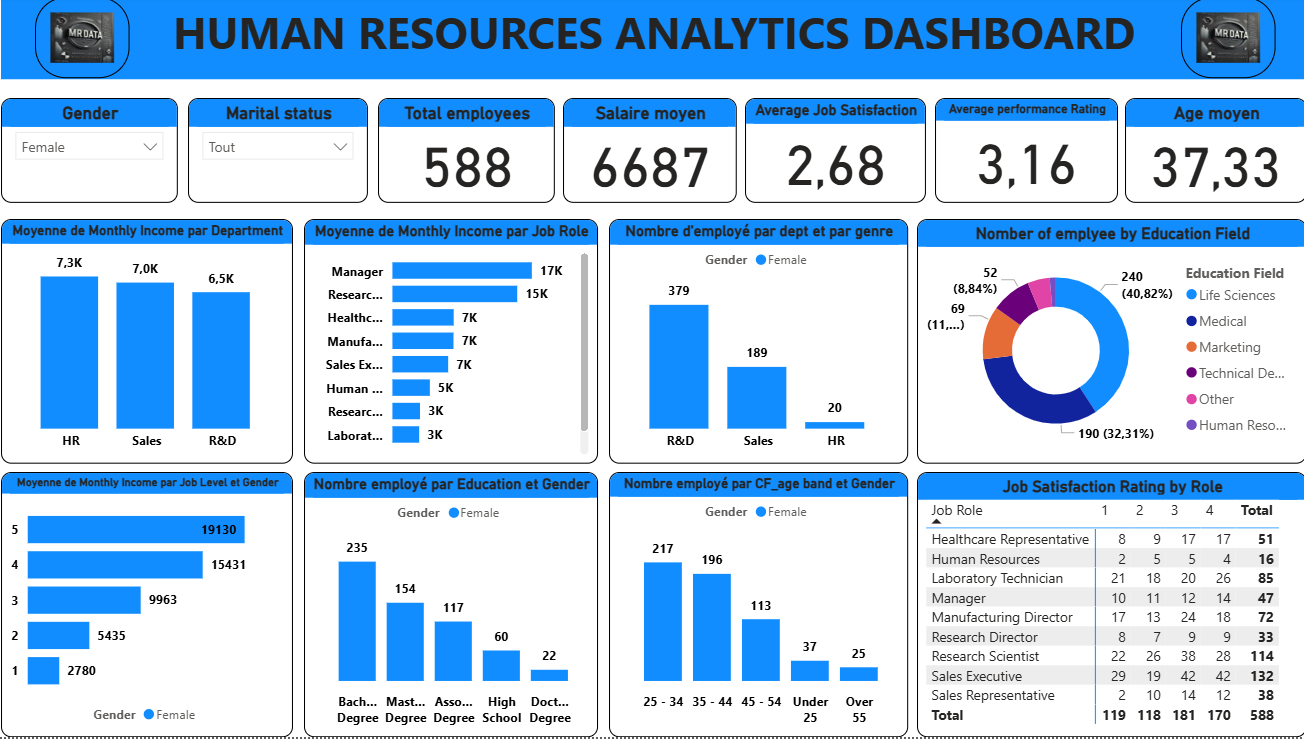

The dashboard page shown, as its layout file describes it:
{"tool":"powerbi","page":{"name":"Gestion des resources humaines","canvas":[1280,720],"ordinal":0},"visuals":[{"type":"textbox","box":[9.7,0,1270.3,79.8],"z":0},{"type":"slicer","title":"Gender","fields":{"Values":["HR data.Gender"]},"box":[10.2,98.6,171.8,101.7],"z":1000},{"type":"slicer","title":"Marital status","fields":{"Values":["HR data.Marital Status"]},"box":[191.1,98.6,174.9,101.7],"z":3000},{"type":"card","title":"Total employees","fields":{"Values":["HR data.Nombre employé"]},"box":[376.2,98.6,171.8,101.7],"z":4000},{"type":"card","title":"Salaire moyen","fields":{"Values":["Avg(HR data.Monthly Income)"]},"box":[556.1,98.6,168.8,101.7],"z":5000},{"type":"card","title":"Average Job Satisfaction","fields":{"Values":["Avg(HR data.Job Satisfaction)"]},"box":[733,98.6,175.9,101.7],"z":6000},{"type":"card","title":"Average performance Rating","fields":{"Values":["Avg(HR data.Performance Rating)"]},"box":[918.1,98.6,177.9,101.7],"z":7000},{"type":"card","title":"Age moyen","fields":{"Values":["Avg(HR data.Age)"]},"box":[1103.1,98.6,176.9,101.7],"z":8000},{"type":"columnChart","fields":{"Category":["HR data.Department"],"Y":["Avg(HR data.Monthly Income)"]},"box":[10.2,215.5,283.7,237.9],"z":9000},{"type":"barChart","fields":{"Y":["Avg(HR data.Monthly Income)"],"Category":["HR data.Job Role"]},"box":[304,215.5,285.7,237.9],"z":9001},{"type":"clusteredColumnChart","title":"Nombre d''employé par dept et par  genre","fields":{"Category":["HR data.Department"],"Y":["CountNonNull(HR data.emp no)"],"Series":["HR data.Gender"]},"box":[600.9,215.5,290.8,237.9],"z":9002},{"type":"donutChart","title":"Nomber of emplyee by Education Field","fields":{"Y":["CountNonNull(HR data.emp no)"],"Category":["HR data.Education Field"]},"box":[900.8,215.5,379.2,237.9],"z":9003},{"type":"clusteredBarChart","fields":{"Y":["Avg(HR data.Monthly Income)"],"Category":["HR data.Job Level"],"Series":["HR data.Gender"]},"box":[10.2,461.6,283.7,258.2],"z":9004},{"type":"columnChart","fields":{"Category":["HR data.Education"],"Y":["HR data.Nombre employé"],"Series":["HR data.Gender"]},"box":[304,461.6,285.7,258.2],"z":9005},{"type":"columnChart","fields":{"Y":["HR data.Nombre employé"],"Series":["HR data.Gender"],"Category":["HR data.CF_age band"]},"box":[600.9,461.6,290.8,258.2],"z":9006},{"type":"pivotTable","title":"Job Satisfaction Rating by Role","fields":{"Rows":["HR data.Job Role"],"Columns":["HR data.Job Satisfaction"],"Values":["HR data.Nombre employé"]},"box":[900.8,461.6,379.2,258.2],"z":9007},{"type":"image","box":[42.7,0,91.5,79.3],"z":9008},{"type":"image","box":[1157,0,91.5,79.3],"z":9009}]}

Visuals, with their boxes in screenshot pixels (x1, y1, x2, y2), scaled from the page's 1280x720 canvas onto the 1304x739 screenshot:
textbox: 10,0,1303,82
"Gender" slicer: 10,101,185,206
"Marital status" slicer: 195,101,373,206
"Total employees" card: 383,101,558,206
"Salaire moyen" card: 567,101,738,206
"Average Job Satisfaction" card: 747,101,926,206
"Average performance Rating" card: 935,101,1117,206
"Age moyen" card: 1124,101,1303,206
columnChart - HR data.Department x Avg(HR data.Monthly Income): 10,221,299,465
barChart - Avg(HR data.Monthly Income) x HR data.Job Role: 310,221,601,465
"Nombre d''employé par dept et par  genre" clusteredColumnChart: 612,221,908,465
"Nomber of emplyee by Education Field" donutChart: 918,221,1303,465
clusteredBarChart - Avg(HR data.Monthly Income) x HR data.Job Level: 10,474,299,738
columnChart - HR data.Education x HR data.Nombre employé: 310,474,601,738
columnChart - HR data.Nombre employé x HR data.Gender: 612,474,908,738
"Job Satisfaction Rating by Role" pivotTable: 918,474,1303,738
image: 44,0,137,81
image: 1179,0,1272,81
